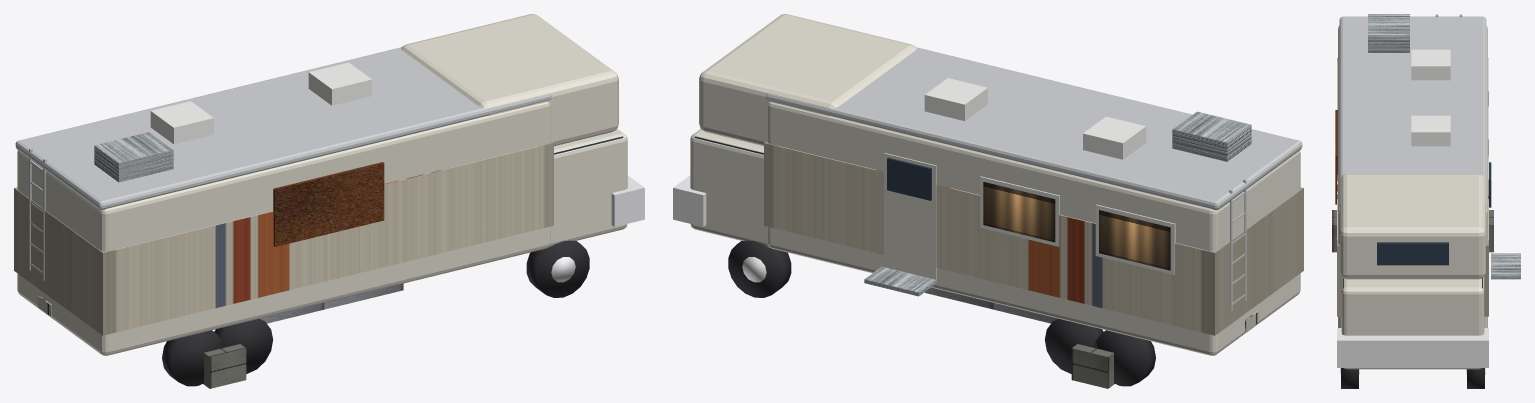
The model's file is WK_HERO_MotorhomeRV.glb.
3 renders of one model, left to right at view 1: azimuth 30°, elevation 25°; view 2: azimuth 150°, elevation 25°; view 3: azimuth 270°, elevation 25°, orthographic. The views are drawn at different scales.
Visible parts, largest first — view 1: WK_HERO_MotorhomeRV_P02, WK_HERO_MotorhomeRV_P01, WK_HERO_MotorhomeRV_P03, WK_HERO_MotorhomeRV_P06, WK_HERO_MotorhomeRV_P04, WK_HERO_MotorhomeRV_P43, WK_HERO_MotorhomeRV_P22, WK_HERO_MotorhomeRV_P32, WK_HERO_MotorhomeRV_P38, WK_HERO_MotorhomeRV_P20, WK_HERO_MotorhomeRV_P21, WK_HERO_MotorhomeRV_P36 (+3 smaller); view 2: WK_HERO_MotorhomeRV_P02, WK_HERO_MotorhomeRV_P03, WK_HERO_MotorhomeRV_P01, WK_HERO_MotorhomeRV_P06, WK_HERO_MotorhomeRV_P04, WK_HERO_MotorhomeRV_P17, WK_HERO_MotorhomeRV_P16, WK_HERO_MotorhomeRV_P14, WK_HERO_MotorhomeRV_P22, WK_HERO_MotorhomeRV_P34, WK_HERO_MotorhomeRV_P39, WK_HERO_MotorhomeRV_P21 (+9 smaller); view 3: WK_HERO_MotorhomeRV_P03, WK_HERO_MotorhomeRV_P06, WK_HERO_MotorhomeRV_P04, WK_HERO_MotorhomeRV_P08, WK_HERO_MotorhomeRV_P07, WK_HERO_MotorhomeRV_P22, WK_HERO_MotorhomeRV_P20, WK_HERO_MotorhomeRV_P21, WK_HERO_MotorhomeRV_P01, WK_HERO_MotorhomeRV_P19, WK_HERO_MotorhomeRV_P02, WK_HERO_MotorhomeRV_P32 (+4 smaller).
Part boxes in pixels (x1=…): WK_HERO_MotorhomeRV_P02: x1=14, y1=142, x2=553, y2=335; WK_HERO_MotorhomeRV_P01: x1=17, y1=102, x2=550, y2=355; WK_HERO_MotorhomeRV_P03: x1=15, y1=47, x2=551, y2=210; WK_HERO_MotorhomeRV_P06: x1=401, y1=14, x2=618, y2=146; WK_HERO_MotorhomeRV_P04: x1=548, y1=129, x2=627, y2=247; WK_HERO_MotorhomeRV_P43: x1=273, y1=162, x2=384, y2=246; WK_HERO_MotorhomeRV_P22: x1=94, y1=132, x2=173, y2=182; WK_HERO_MotorhomeRV_P32: x1=526, y1=240, x2=589, y2=297; WK_HERO_MotorhomeRV_P38: x1=162, y1=330, x2=223, y2=386; WK_HERO_MotorhomeRV_P20: x1=150, y1=101, x2=213, y2=144; WK_HERO_MotorhomeRV_P21: x1=308, y1=62, x2=371, y2=105; WK_HERO_MotorhomeRV_P36: x1=214, y1=319, x2=273, y2=373; WK_HERO_MotorhomeRV_P02: x1=764, y1=142, x2=1303, y2=335; WK_HERO_MotorhomeRV_P03: x1=766, y1=47, x2=1302, y2=210; WK_HERO_MotorhomeRV_P01: x1=767, y1=102, x2=1300, y2=355; WK_HERO_MotorhomeRV_P06: x1=699, y1=14, x2=916, y2=146; WK_HERO_MotorhomeRV_P04: x1=690, y1=129, x2=769, y2=247; WK_HERO_MotorhomeRV_P17: x1=884, y1=153, x2=936, y2=279; WK_HERO_MotorhomeRV_P16: x1=983, y1=182, x2=1055, y2=242; WK_HERO_MotorhomeRV_P14: x1=1099, y1=210, x2=1170, y2=270; WK_HERO_MotorhomeRV_P22: x1=1172, y1=111, x2=1251, y2=161; WK_HERO_MotorhomeRV_P34: x1=728, y1=240, x2=791, y2=297; WK_HERO_MotorhomeRV_P39: x1=1094, y1=330, x2=1155, y2=386; WK_HERO_MotorhomeRV_P21: x1=924, y1=78, x2=987, y2=120; WK_HERO_MotorhomeRV_P03: x1=1339, y1=16, x2=1486, y2=208; WK_HERO_MotorhomeRV_P06: x1=1340, y1=174, x2=1485, y2=279; WK_HERO_MotorhomeRV_P04: x1=1341, y1=277, x2=1484, y2=369; WK_HERO_MotorhomeRV_P08: x1=1337, y1=328, x2=1488, y2=367; WK_HERO_MotorhomeRV_P07: x1=1377, y1=242, x2=1448, y2=265; WK_HERO_MotorhomeRV_P22: x1=1368, y1=14, x2=1409, y2=52; WK_HERO_MotorhomeRV_P20: x1=1411, y1=49, x2=1450, y2=80; WK_HERO_MotorhomeRV_P21: x1=1411, y1=115, x2=1450, y2=146; WK_HERO_MotorhomeRV_P01: x1=1338, y1=25, x2=1487, y2=327; WK_HERO_MotorhomeRV_P19: x1=1491, y1=253, x2=1520, y2=279; WK_HERO_MotorhomeRV_P02: x1=1337, y1=58, x2=1488, y2=316; WK_HERO_MotorhomeRV_P32: x1=1341, y1=368, x2=1358, y2=388.
Size of the model in its own units: 8.97 by 3.57 by 3.15.
Materials: 16 (7 with a texture image).
